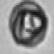correct: (7, 0, 49, 49)
